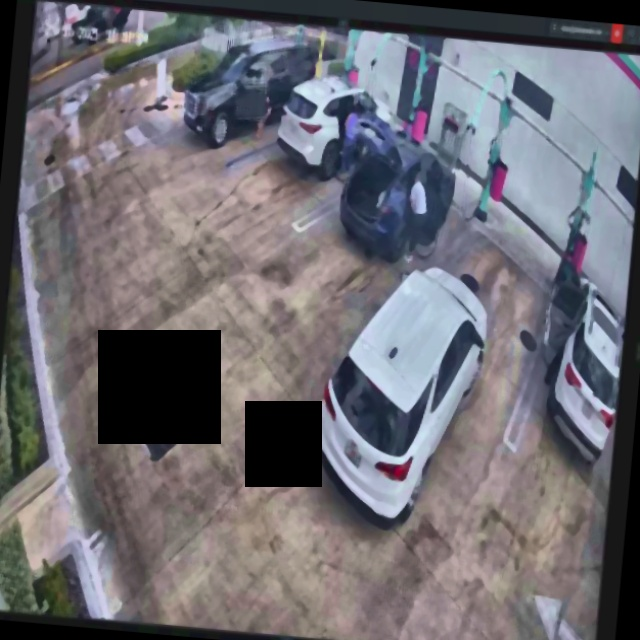Car: (306, 256, 491, 532), (334, 113, 461, 266), (275, 69, 399, 186)
